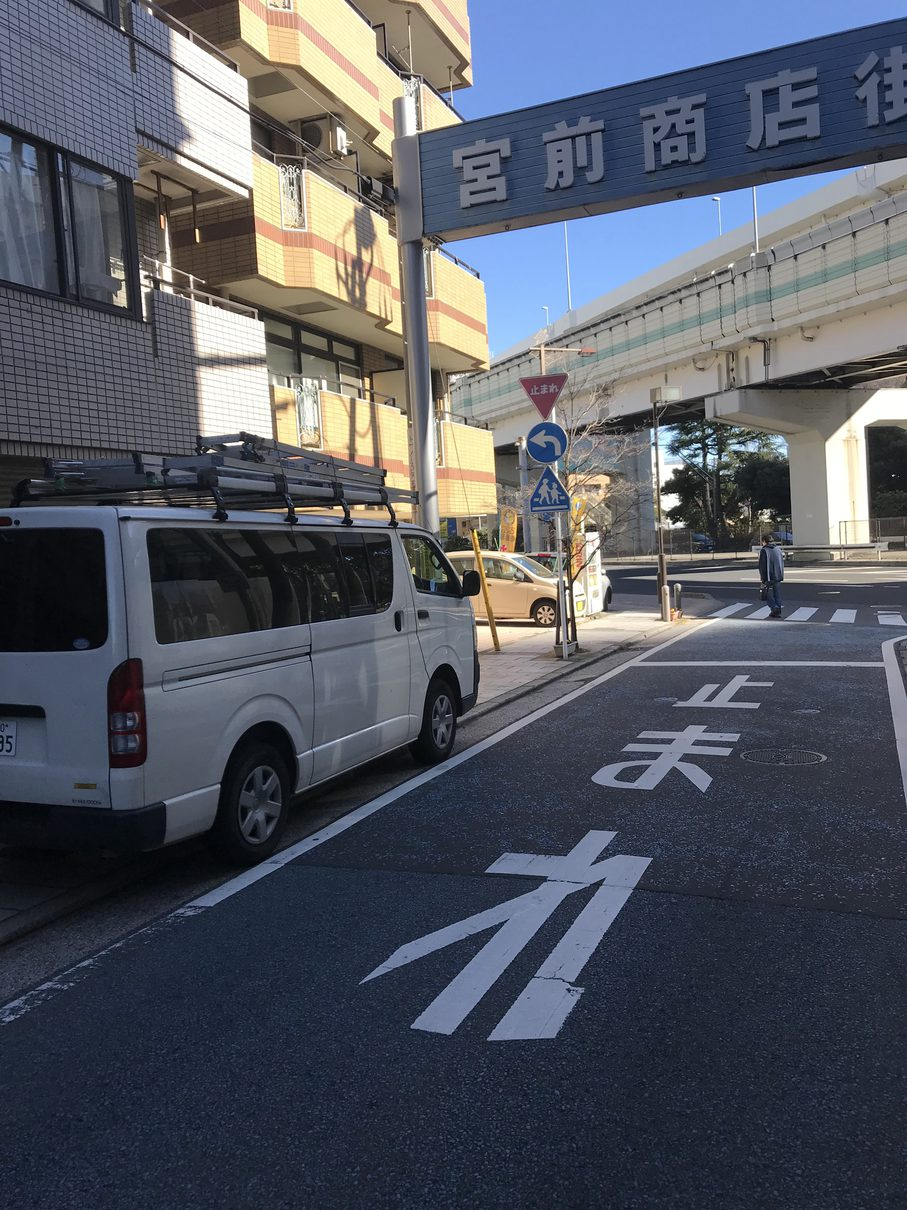stop_sign: (518, 371, 568, 421)
